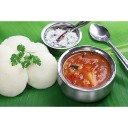idly: (26, 47, 57, 89), (1, 48, 27, 94), (3, 35, 39, 52)
